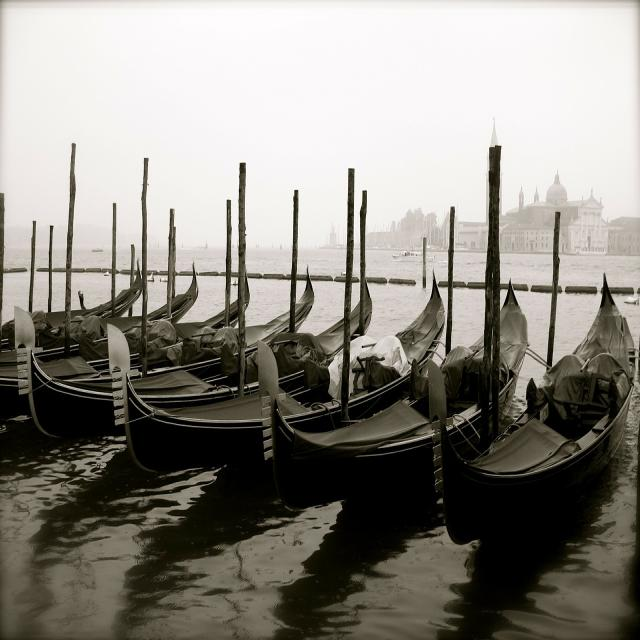boat: (94, 276, 455, 466), (257, 277, 542, 503), (434, 258, 640, 538), (11, 273, 320, 446)
